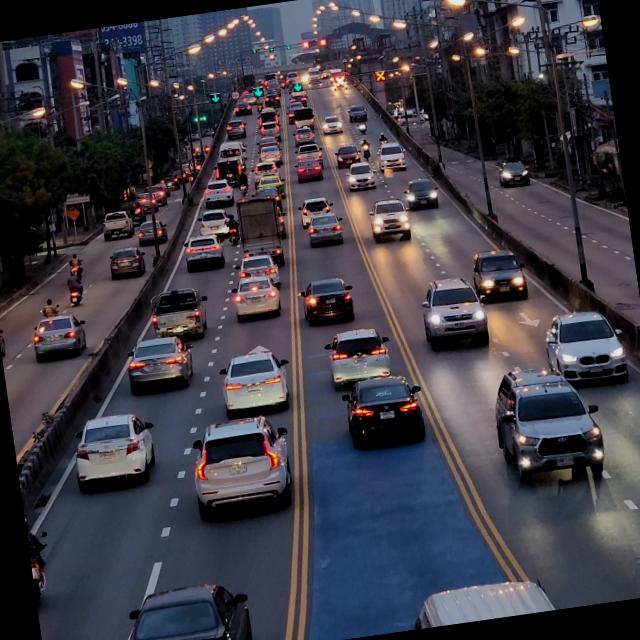Vehicle: (478, 357, 614, 491), (183, 405, 307, 521), (112, 572, 262, 640), (70, 405, 168, 499), (336, 373, 434, 453), (544, 302, 634, 388), (410, 268, 493, 358), (320, 321, 404, 397), (218, 348, 296, 418), (122, 332, 199, 394), (232, 193, 292, 270), (470, 242, 535, 308), (148, 283, 214, 343), (298, 272, 363, 331), (31, 306, 92, 362), (227, 272, 290, 322), (178, 232, 230, 272), (372, 198, 414, 244), (108, 244, 148, 282), (407, 176, 446, 212), (309, 213, 346, 244)
